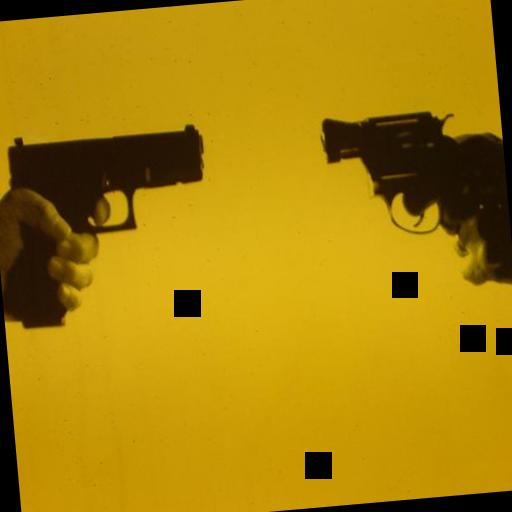Handgun: (0, 120, 217, 330), (316, 98, 510, 296)
